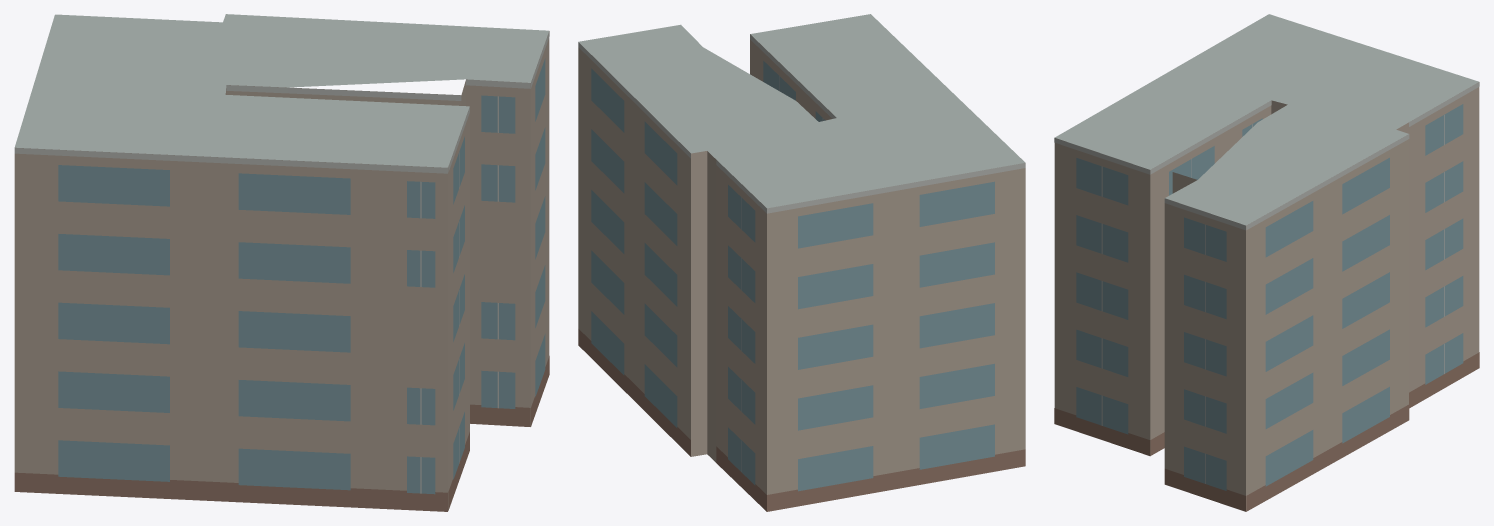
Rendered from survey-upis-32630268.glb.
3 renders of one model, left to right at view 1: azimuth 30°, elevation 25°; view 2: azimuth 150°, elevation 25°; view 3: azimuth 270°, elevation 25°, orthographic. The views are drawn at different scales.
Visible parts, largest first — view 1: survey-upis-32630268.tmp; view 2: survey-upis-32630268.tmp; view 3: survey-upis-32630268.tmp.
Boxes of the visible parts, x1,y1,x2,y2 form: survey-upis-32630268.tmp: (14, 14, 549, 511); survey-upis-32630268.tmp: (578, 14, 1025, 511); survey-upis-32630268.tmp: (1054, 14, 1479, 511).
Size of the model in its own units: 22.51 by 14.2 by 19.11.
